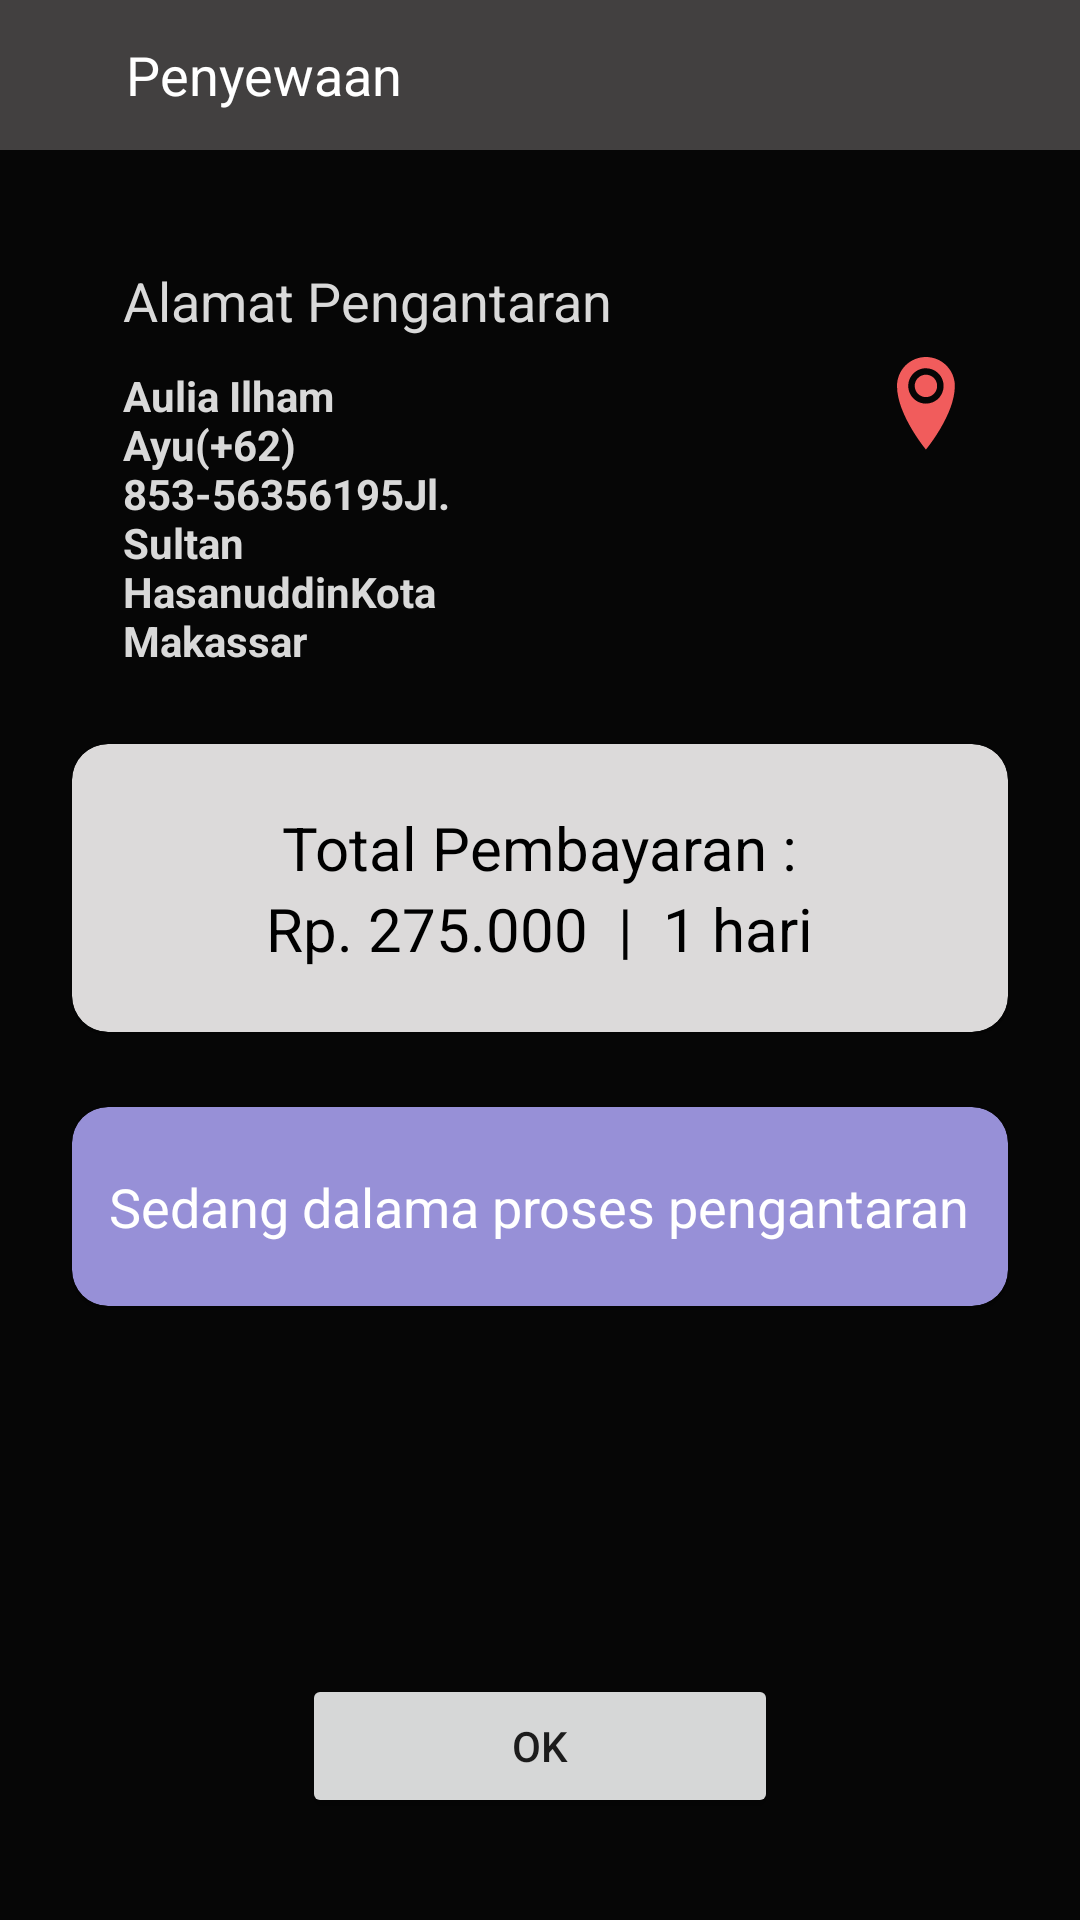

Where icons sit on this 1080px x 1920px app screen, as (left=x1, top=y1, right=x2, bottom=y2):
lokasi: (left=897, top=357, right=955, bottom=450)
